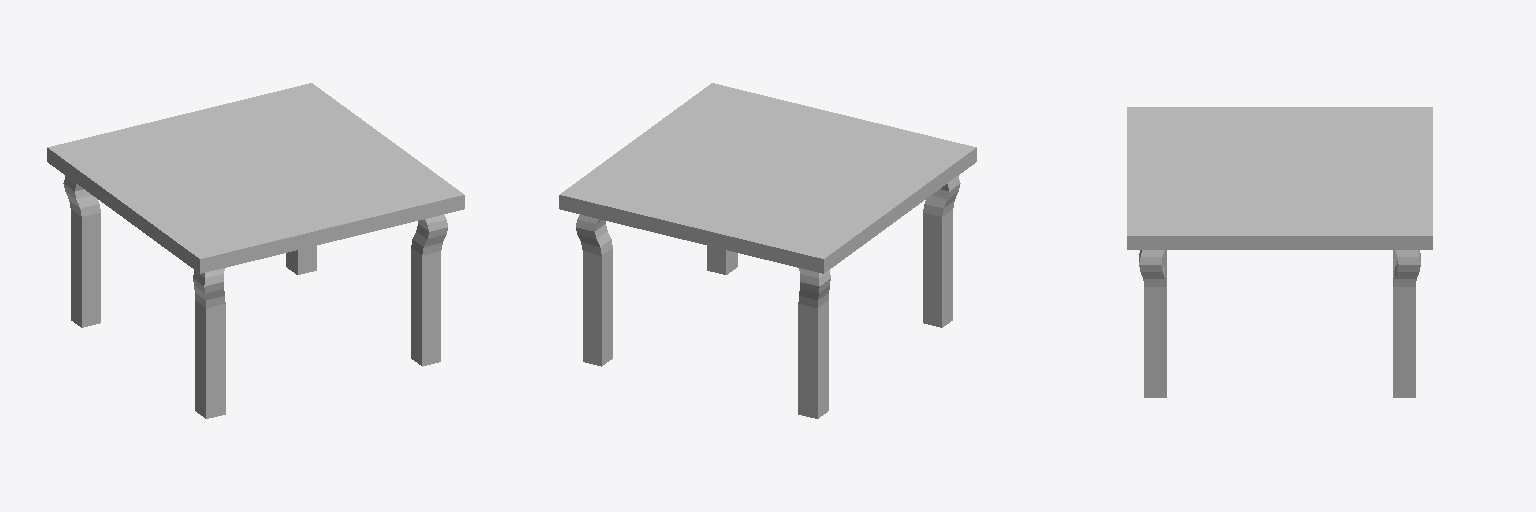
The model's file is table.obj.
3 views of the same model, side by side, from view 1: azimuth 30°, elevation 25°; view 2: azimuth 150°, elevation 25°; view 3: azimuth 270°, elevation 25° (orthographic).
Visible parts, largest first — view 1: Cube, Cube.003_Cube.004, Cube.004_Cube.005, Cube.002_Cube.003, Cube.001; view 2: Cube, Cube.002_Cube.003, Cube.001, Cube.003_Cube.004, Cube.004_Cube.005; view 3: Cube, Cube.001, Cube.004_Cube.005.
Boxes of the visible parts, <box> form: Cube: <box>47,83,464,273</box>; Cube.003_Cube.004: <box>193,268,225,418</box>; Cube.004_Cube.005: <box>411,215,447,366</box>; Cube.002_Cube.003: <box>63,176,100,327</box>; Cube.001: <box>286,246,316,274</box>; Cube: <box>559,83,976,273</box>; Cube.002_Cube.003: <box>798,268,830,418</box>; Cube.001: <box>576,215,612,366</box>; Cube.003_Cube.004: <box>923,176,960,327</box>; Cube.004_Cube.005: <box>707,246,737,274</box>; Cube: <box>1127,107,1432,249</box>; Cube.001: <box>1393,250,1420,397</box>; Cube.004_Cube.005: <box>1139,250,1166,397</box>.
Size of the model in its own units: 2.7 by 1.66 by 2.7.